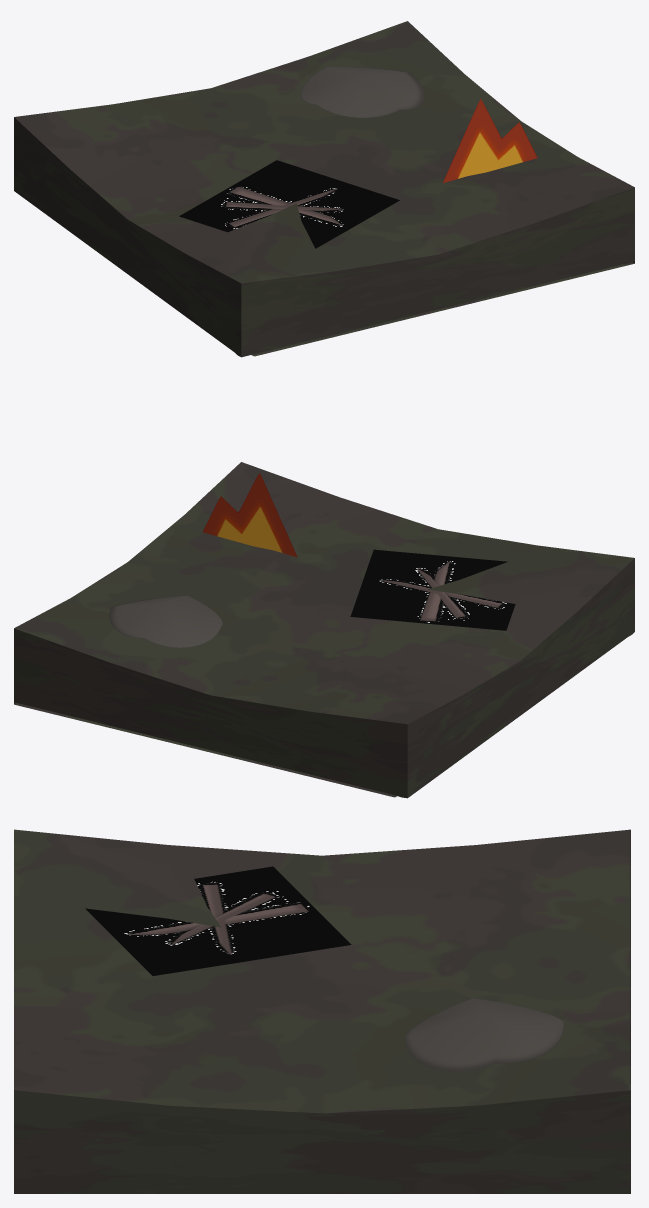
The model's file is 1FireTile2.fbx.
3 renders of one model, top to bottom at view 1: azimuth 30°, elevation 25°; view 2: azimuth 150°, elevation 25°; view 3: azimuth 270°, elevation 25°, orthographic. The views are drawn at different scales.
Visible parts, largest first — view 1: 1FireTile2, BurntPileTop.002, BurntPileTop.001, 1BurningFire.001; view 2: 1FireTile2, BurntPileTop.002, BurntPileTop.001, 1BurningFire.001; view 3: 1FireTile2, BurntPileTop.002, BurntPileTop.001.
Boxes of the visible parts, <box> form: 1FireTile2: <box>14,21,634,357</box>; BurntPileTop.002: <box>179,160,399,248</box>; BurntPileTop.001: <box>301,67,424,117</box>; 1BurningFire.001: <box>443,99,537,182</box>; 1FireTile2: <box>14,462,634,798</box>; BurntPileTop.002: <box>350,549,515,630</box>; BurntPileTop.001: <box>109,595,222,647</box>; 1BurningFire.001: <box>202,473,297,557</box>; 1FireTile2: <box>14,829,630,1193</box>; BurntPileTop.002: <box>85,866,351,975</box>; BurntPileTop.001: <box>405,998,564,1071</box>.
Bounding box in the file's own units: 200 × 97.5 × 201.
4 materials, 4 textured.
